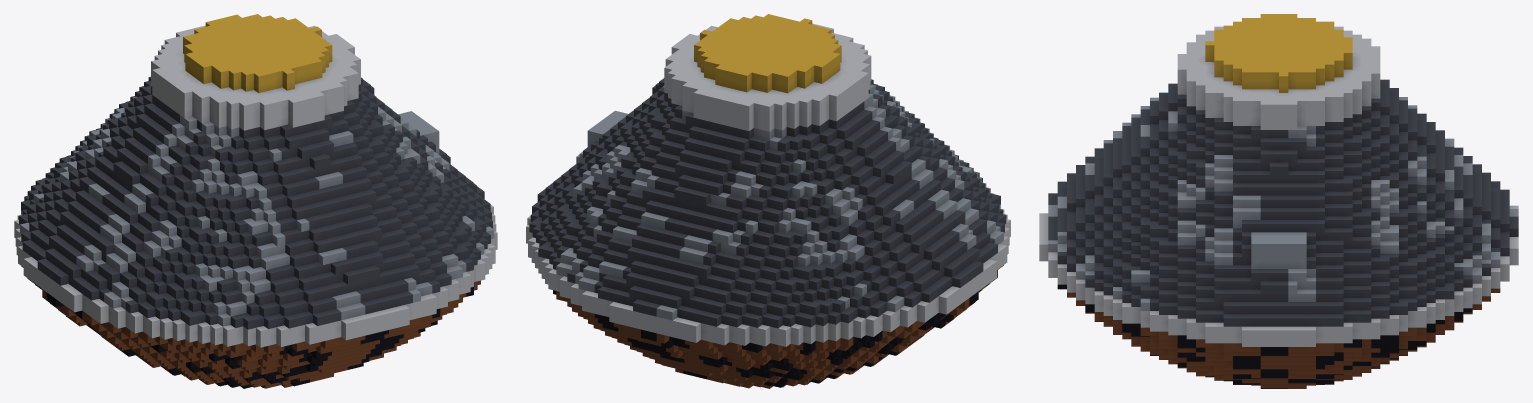
Rendered from inst_src.glb.
The picture shows the model from 3 angles, left to right: view 1: azimuth 30°, elevation 25°; view 2: azimuth 150°, elevation 25°; view 3: azimuth 270°, elevation 25°; orthographic projection.
Visible parts, largest first — view 1: inst_src; view 2: inst_src; view 3: inst_src.
Boxes of the visible parts, x1,y1,x2,y2 form: inst_src: [14, 14, 497, 388]; inst_src: [526, 14, 1010, 388]; inst_src: [1039, 14, 1518, 388].
Size of the model in its own units: 0.8125 by 0.5938 by 0.8125.
